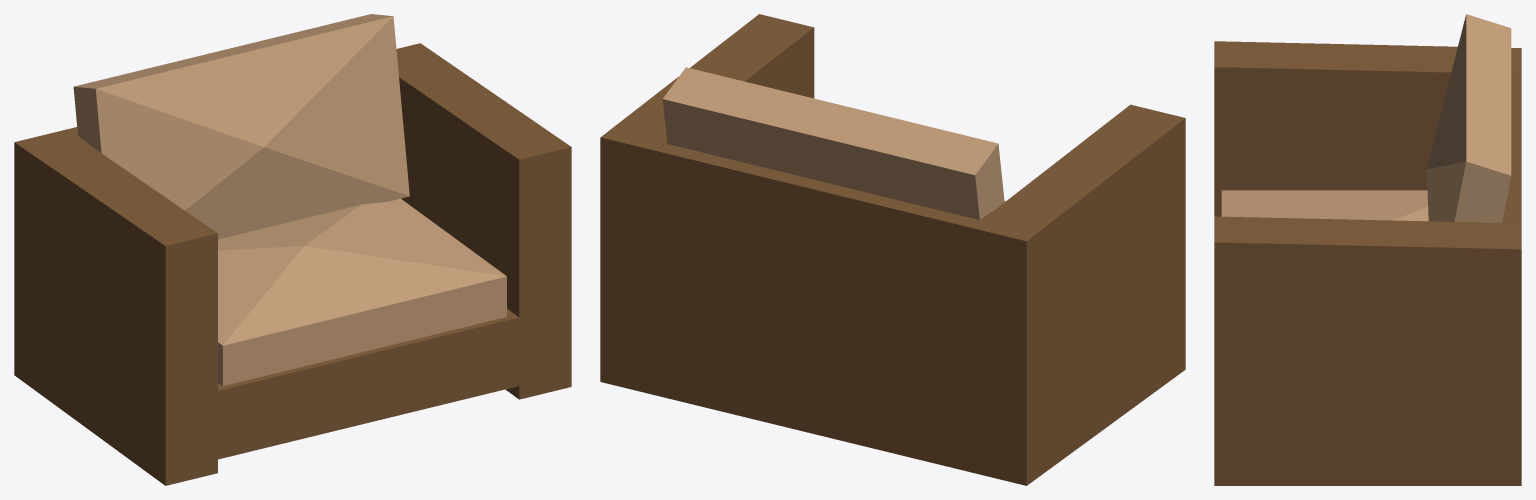
File: Couch_4A.fbx
3 views of the same model, side by side, from view 1: azimuth 30°, elevation 25°; view 2: azimuth 150°, elevation 25°; view 3: azimuth 270°, elevation 25° (orthographic). The views are drawn at different scales.
Parts seen in each view (by area): view 1: polySurface1849; view 2: polySurface1849; view 3: polySurface1849.
Part boxes in pixels (x1,y1,x2,y2): polySurface1849: (14, 14, 571, 485); polySurface1849: (600, 14, 1185, 485); polySurface1849: (1214, 14, 1521, 485).
Size of the model in its own units: 1.86 by 1.28 by 1.2.
Materials: 1 (1 with a texture image).
